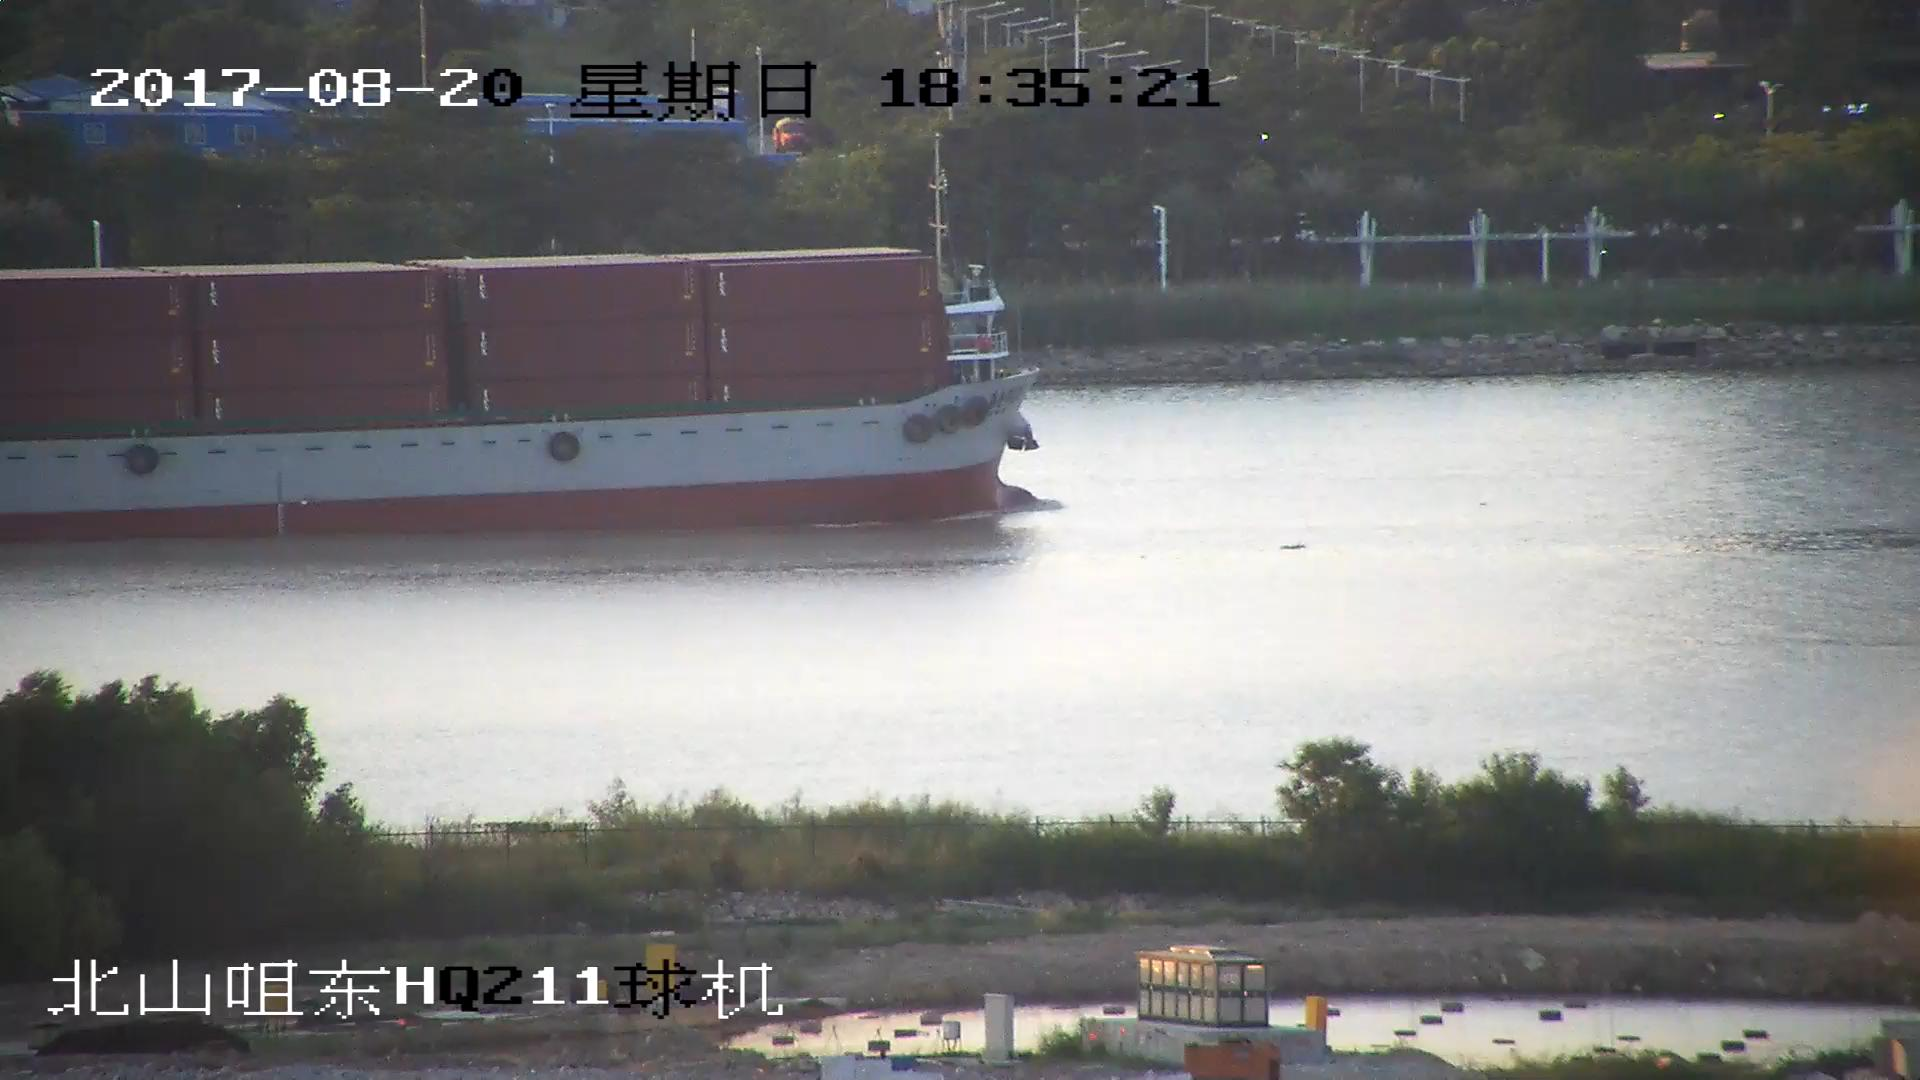container ship: (1, 207, 1042, 550)
